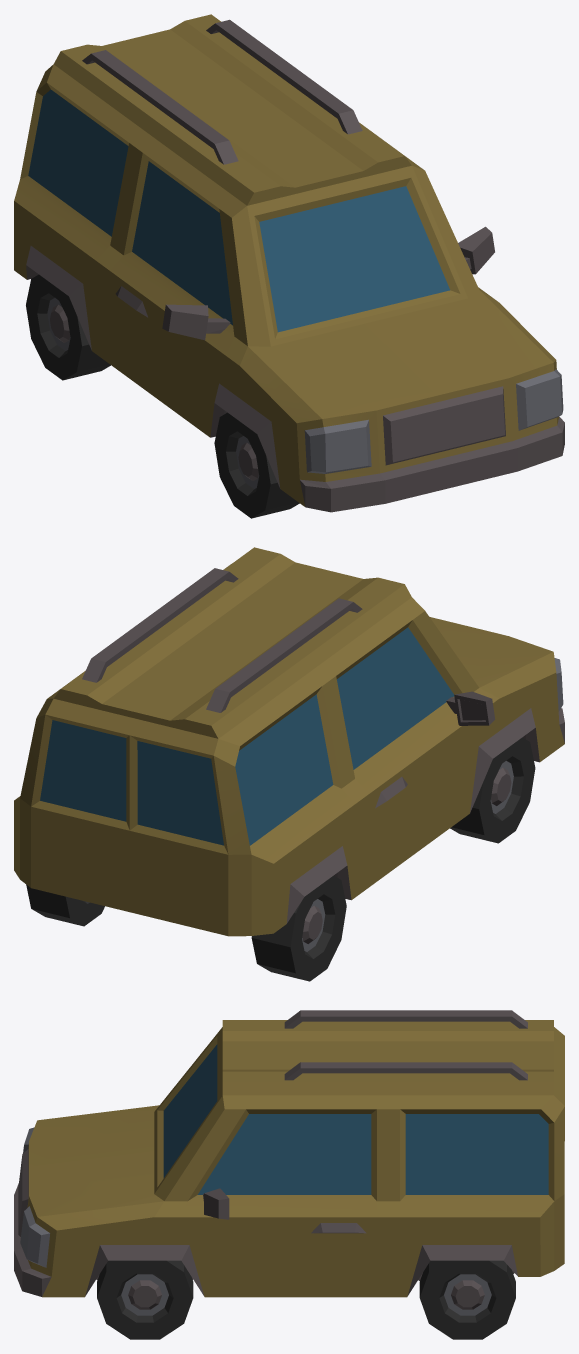
The model's file is LP_VehicleC.fbx.
3 views of the same model, one above another, from view 1: azimuth 30°, elevation 25°; view 2: azimuth 150°, elevation 25°; view 3: azimuth 270°, elevation 25° (orthographic). The views are drawn at different scales.
Visible parts, largest first — view 1: VehicleC; view 2: VehicleC; view 3: VehicleC.
Boxes of the visible parts, bbox=[...] form: VehicleC: bbox=[14, 14, 564, 518]; VehicleC: bbox=[14, 547, 564, 981]; VehicleC: bbox=[14, 1010, 564, 1339].
Size of the model in its own units: 183 by 154 by 313.
